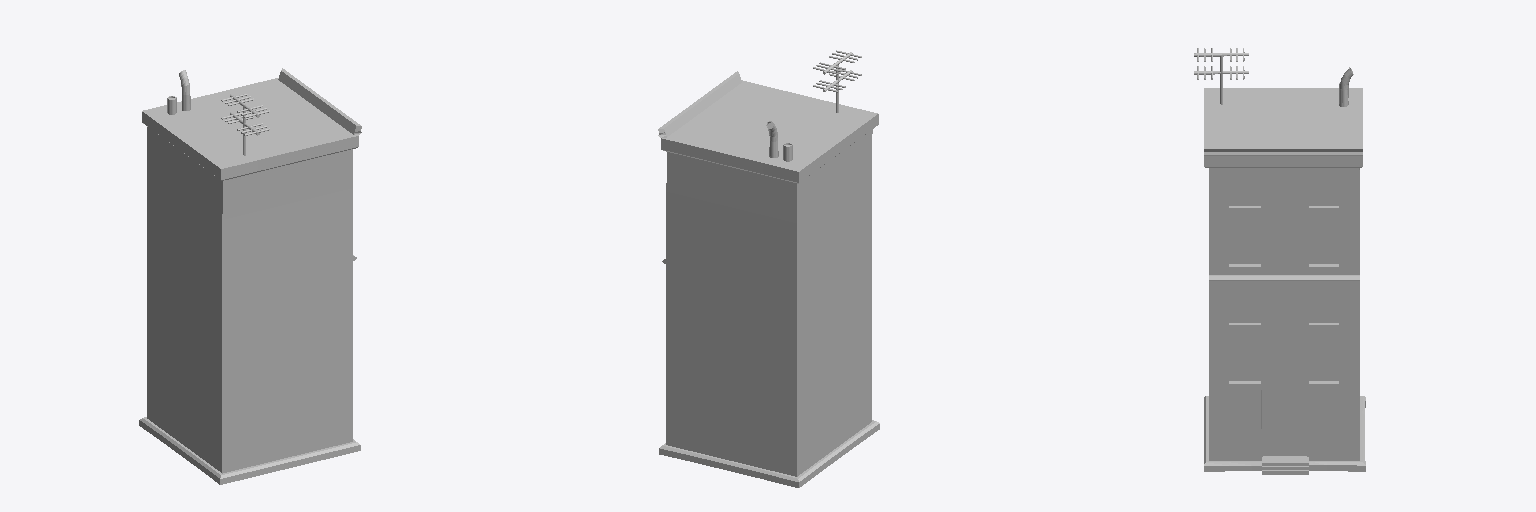
Rendered from BuildingOne.obj.
3 views of the same model, side by side, from view 1: azimuth 30°, elevation 25°; view 2: azimuth 150°, elevation 25°; view 3: azimuth 270°, elevation 25° (orthographic).
Parts seen in each view (by area): view 1: pCube27; view 2: pCube27; view 3: pCube27.
Part boxes in pixels (x1,y1,x2,y2): pCube27: (139,68,361,484); pCube27: (658,50,879,487); pCube27: (1194,48,1365,474).
Size of the model in its own units: 1.13 by 2.68 by 1.14.